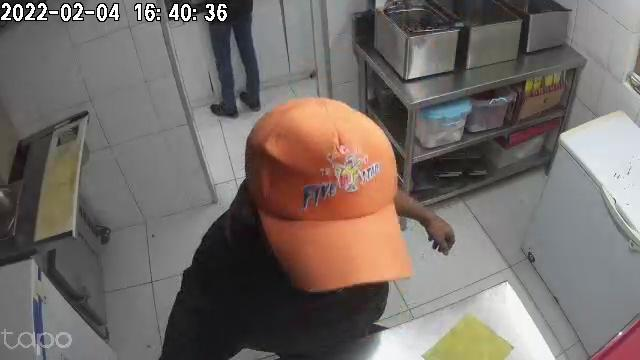no_gloves: (421, 210, 455, 256)
